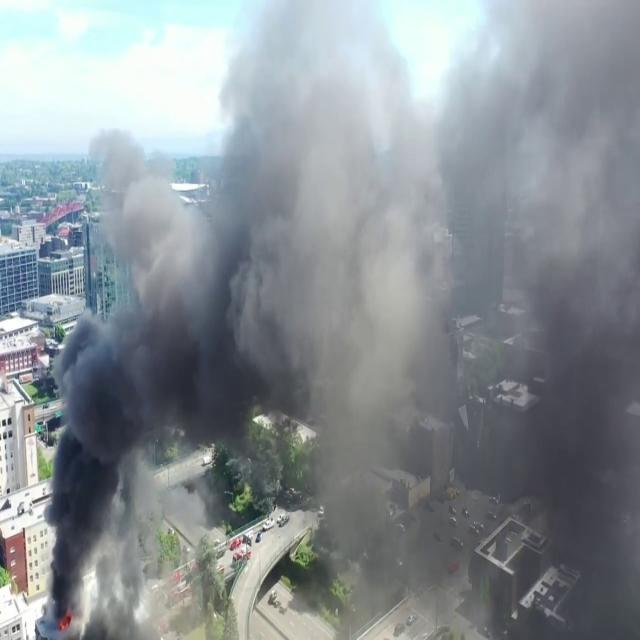Smoke: (41, 5, 636, 631)
